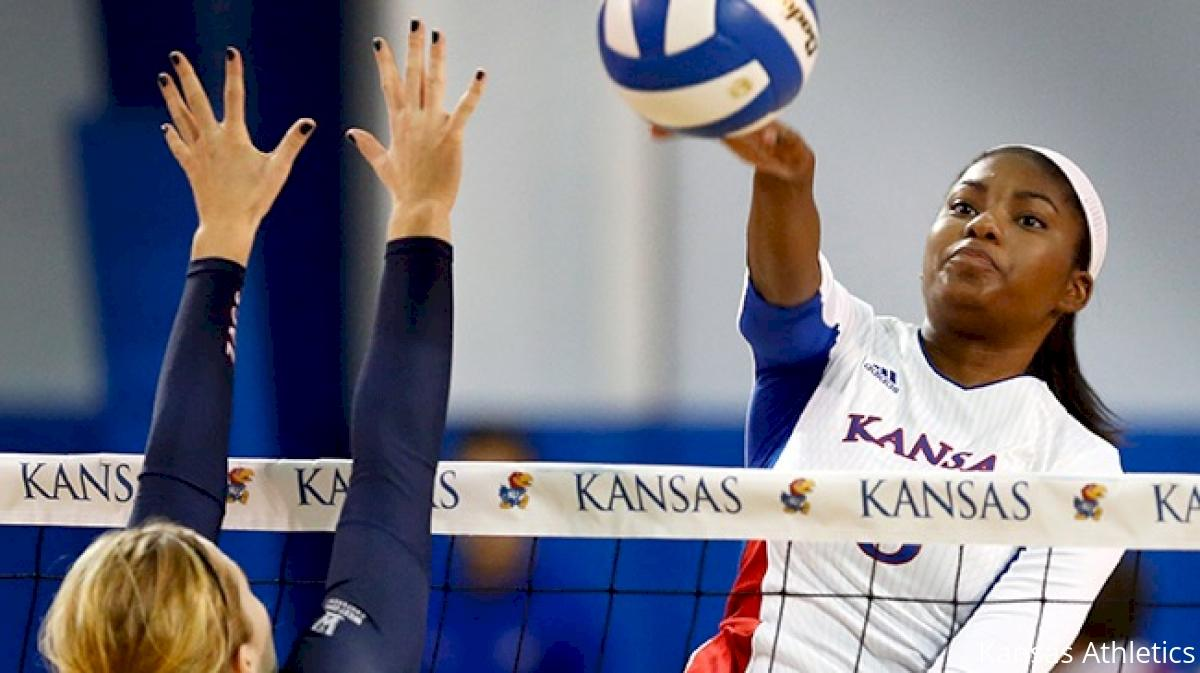ballon_volley: (596, 0, 822, 144)
